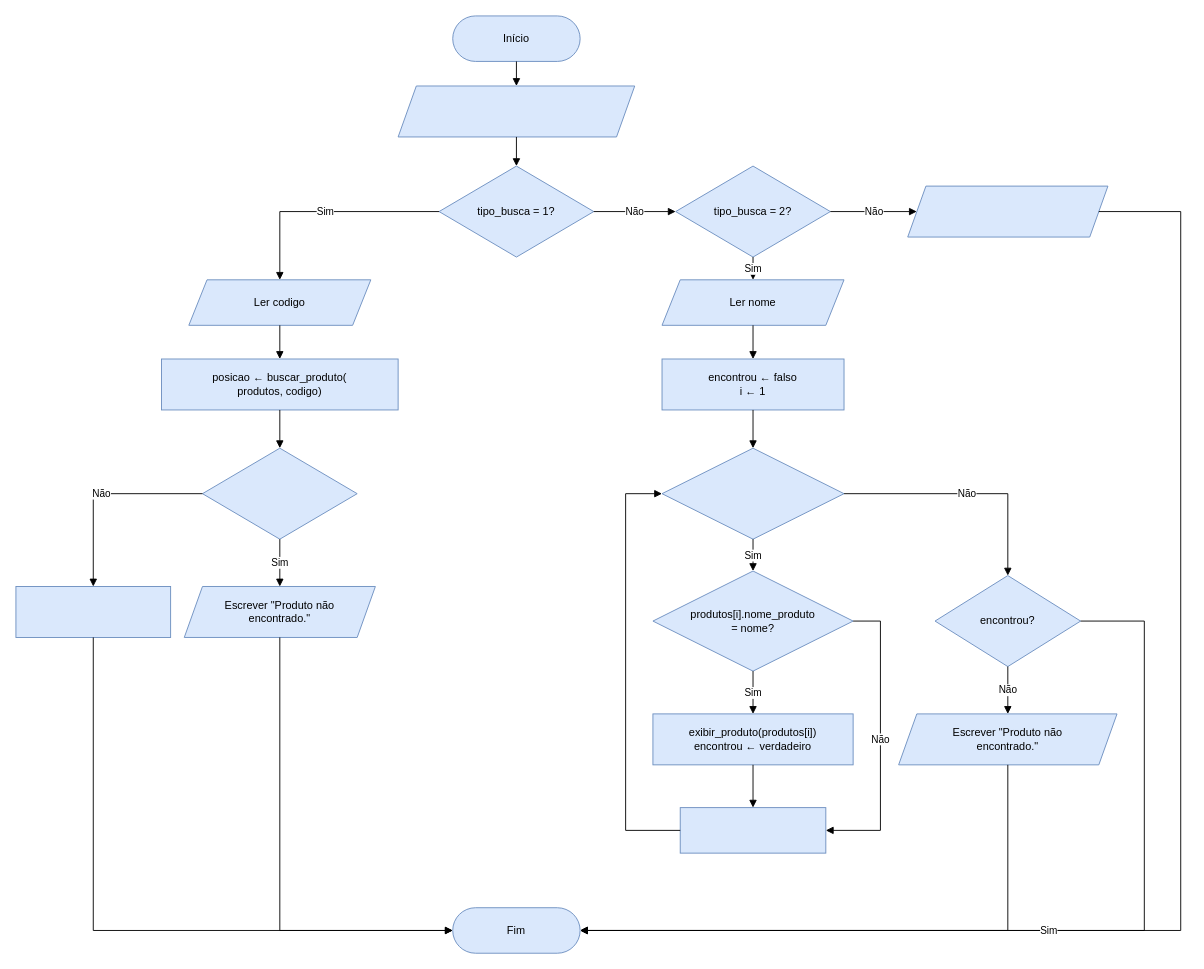
This 1204x969 diagram has some shape labels left out. Here are the shapes that lost their labels. From the top down, the centre of each, then its label:
(516,111): Ler tipo_busca (1 - código, 2 - nome)
(1007,211): Escrever "Opção inválida."
(279,493): posicao = -1?
(752,493): i <= tamanho( produtos)?
(93,611): exibir_produto( produtos[posicao])
(752,830): i ← i + 1
